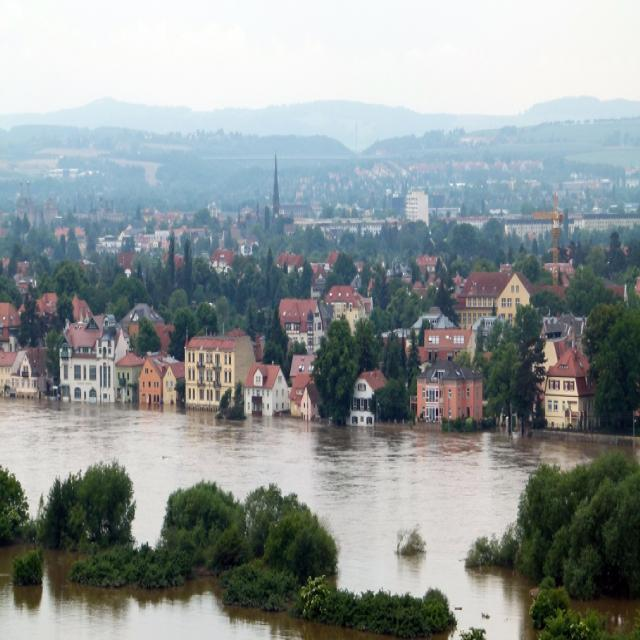flood: (0, 402, 640, 640), (0, 548, 392, 640)
house: (536, 322, 590, 434), (185, 331, 249, 424), (57, 317, 120, 403), (278, 292, 326, 404), (416, 360, 488, 430), (459, 265, 525, 325), (132, 347, 176, 416), (242, 360, 286, 422), (4, 346, 48, 398), (348, 367, 385, 428), (419, 328, 478, 363)
